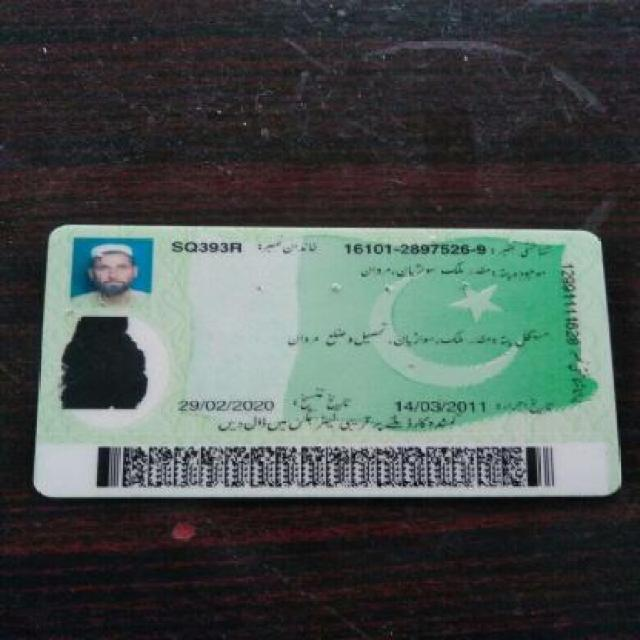Back: (33, 219, 622, 503)
